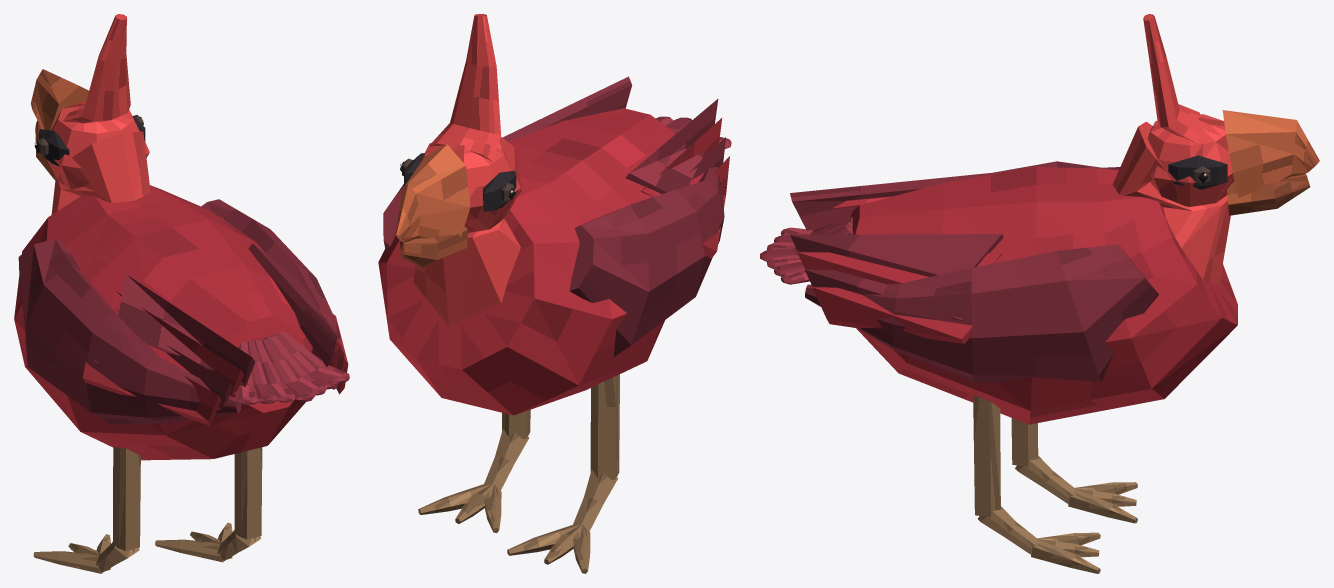
Rendered from mon_cardinal.glb.
3 renders of one model, left to right at view 1: azimuth 30°, elevation 25°; view 2: azimuth 150°, elevation 25°; view 3: azimuth 270°, elevation 25°, orthographic. The views are drawn at different scales.
Visible parts, largest first — view 1: closed_body; view 2: closed_body; view 3: closed_body.
Boxes of the visible parts, x1=… form: closed_body: x1=14, y1=14, x2=349, y2=573; closed_body: x1=378, y1=14, x2=731, y2=573; closed_body: x1=760, y1=14, x2=1319, y2=573.
Bounding box in the file's own units: 0.0599 × 0.1165 × 0.114.
Materials: 1 (1 with a texture image).
